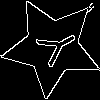Y: (27, 21, 82, 73)
